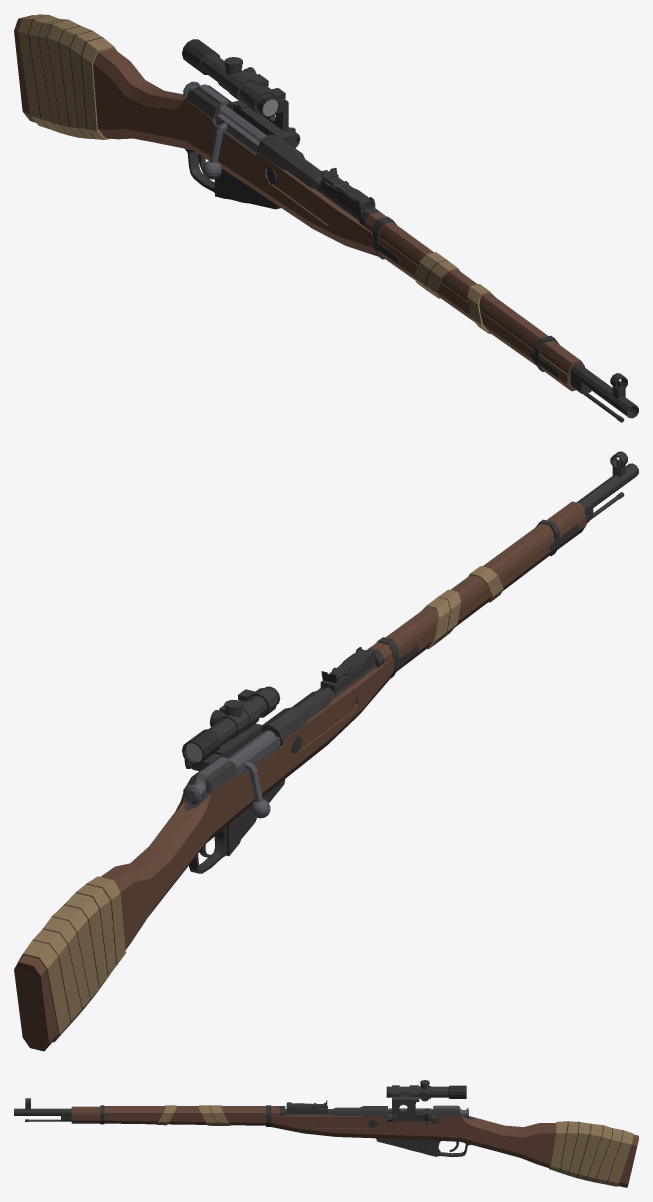
File: sniper.gltf
3 views of the same model, one above another, from view 1: azimuth 30°, elevation 25°; view 2: azimuth 150°, elevation 25°; view 3: azimuth 270°, elevation 25° (orthographic). The views are drawn at different scales.
Parts seen in each view (by area): view 1: sniper; view 2: sniper; view 3: sniper.
Part boxes in pixels (<box>): sniper: <box>14,14,638,422</box>; sniper: <box>14,451,638,1051</box>; sniper: <box>14,1080,638,1187</box>.
Bounding box in the file's own units: 0.0844 × 0.226 × 1.23.
3 materials, 3 textured.
